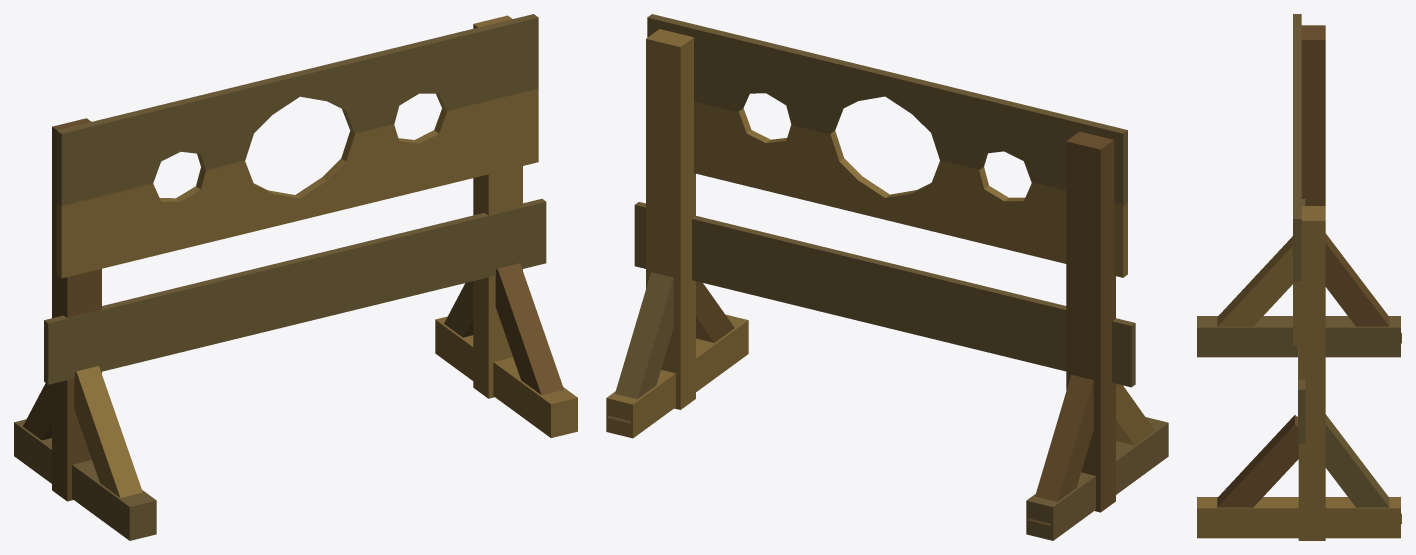
The model's file is Stocks.fbx.
3 renders of one model, left to right at view 1: azimuth 30°, elevation 25°; view 2: azimuth 150°, elevation 25°; view 3: azimuth 270°, elevation 25°, orthographic. The views are drawn at different scales.
Parts seen in each view (by area): view 1: Cube.002, Plane, Plane.001, Cube.001, Cube.000, Cube.004, Cube.005, Cube, Cube.007, Cube.003, Cube.006; view 2: Cube.002, Plane, Plane.001, Cube.001, Cube.000, Cube.005, Cube.004, Cube.003, Cube.006, Cube.007, Cube; view 3: Cube.000, Cube.004, Cube.005, Cube.001, Cube, Cube.007, Cube.003, Cube.006, Plane, Cube.002, Plane.001.
Part boxes in pixels (bbox=[...]): Cube.002: bbox=[44, 199, 546, 384]; Plane: bbox=[56, 14, 538, 206]; Plane.001: bbox=[56, 89, 538, 278]; Cube.001: bbox=[52, 118, 101, 501]; Cube.000: bbox=[473, 15, 522, 398]; Cube.004: bbox=[435, 316, 577, 437]; Cube.005: bbox=[14, 419, 156, 540]; Cube: bbox=[495, 263, 563, 395]; Cube.007: bbox=[74, 366, 142, 497]; Cube.003: bbox=[444, 281, 473, 337]; Cube.006: bbox=[23, 383, 51, 440]; Cube.002: bbox=[634, 202, 1135, 387]; Plane: bbox=[647, 14, 1127, 205]; Plane.001: bbox=[694, 101, 1127, 277]; Cube.001: bbox=[1066, 131, 1115, 512]; Cube.000: bbox=[646, 29, 695, 409]; Cube.005: bbox=[1026, 417, 1168, 540]; Cube.004: bbox=[606, 314, 748, 438]; Cube.003: bbox=[608, 272, 673, 423]; Cube.006: bbox=[1028, 375, 1093, 525]; Cube.007: bbox=[1116, 383, 1154, 445]; Cube: bbox=[696, 281, 734, 342]; Cube.000: bbox=[1298, 206, 1325, 540]; Cube.004: bbox=[1197, 497, 1400, 538]; Cube.005: bbox=[1197, 316, 1400, 357]; Cube.001: bbox=[1301, 25, 1325, 205]; Cube: bbox=[1217, 415, 1298, 507]; Cube.007: bbox=[1217, 236, 1292, 326]; Cube.003: bbox=[1325, 414, 1401, 524]; Cube.006: bbox=[1325, 233, 1401, 343]; Plane: bbox=[1293, 14, 1301, 282]; Cube.002: bbox=[1298, 199, 1305, 443]; Plane.001: bbox=[1293, 281, 1301, 345].
Bounding box in the file's own units: 141 × 101 × 57.19.
